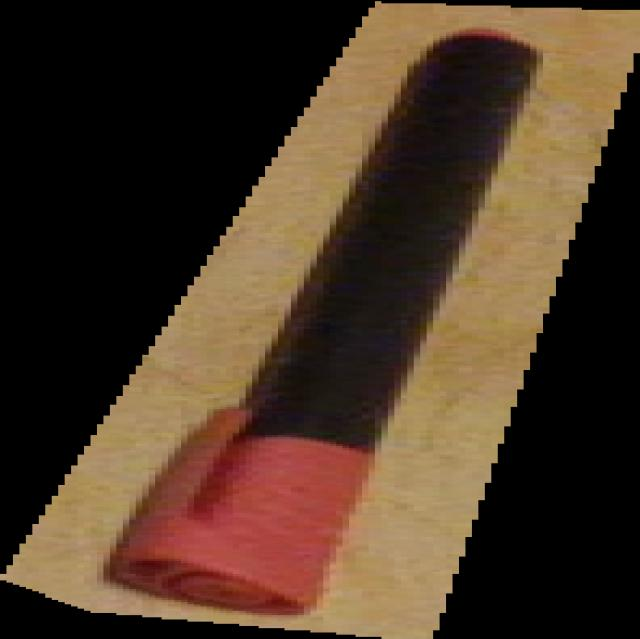red: (1, 1, 640, 639)
